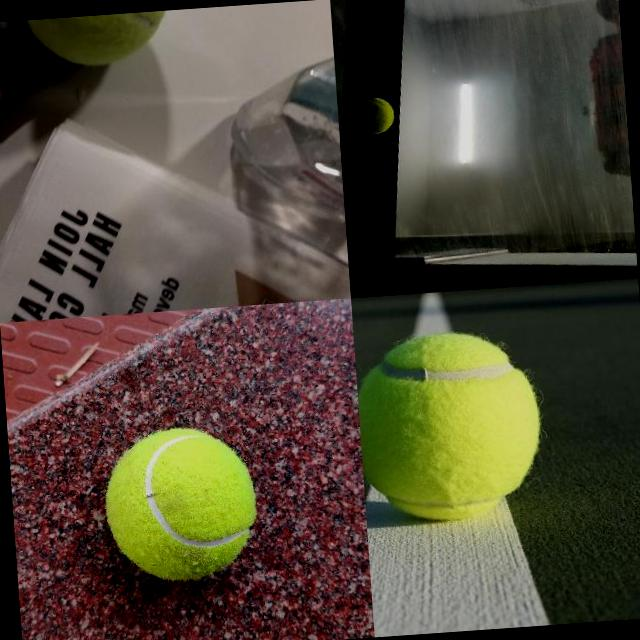Tennis Ball: (354, 326, 546, 522), (102, 423, 260, 583), (22, 10, 175, 71), (352, 96, 395, 136)
